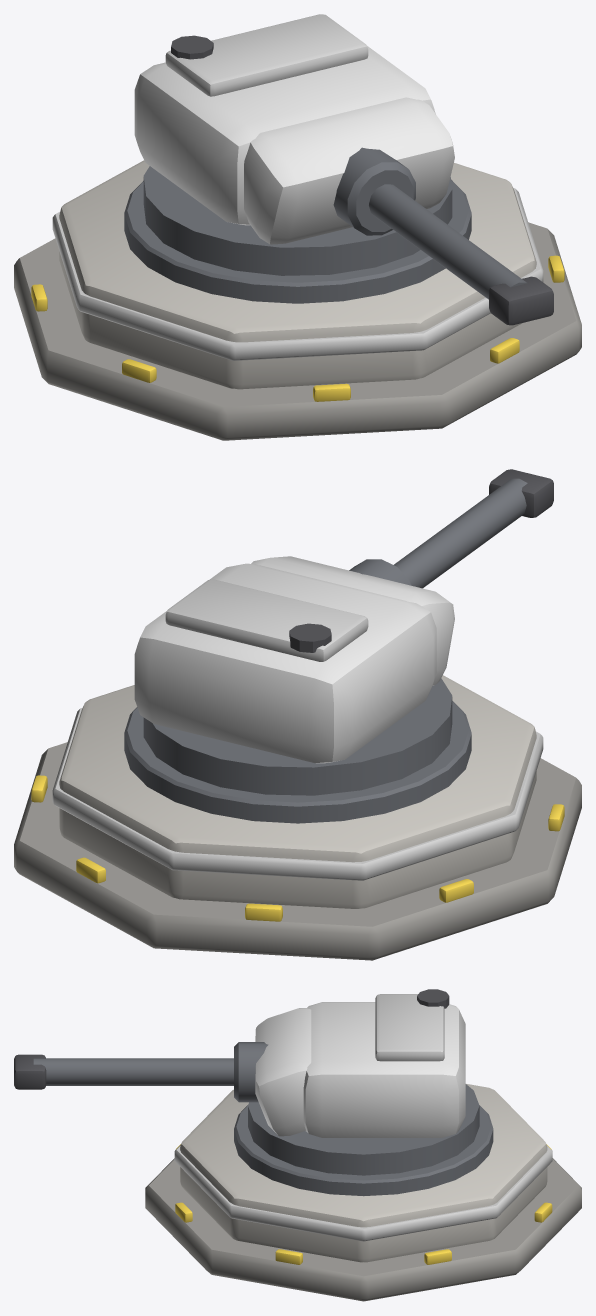
File: cannon_gun.glb
3 renders of one model, top to bottom at view 1: azimuth 30°, elevation 25°; view 2: azimuth 150°, elevation 25°; view 3: azimuth 270°, elevation 25°, orthographic. The views are drawn at different scales.
Visible parts, largest first — view 1: cannon_gun, turret; view 2: cannon_gun, turret; view 3: cannon_gun, turret.
Part boxes in pixels (<box>): cannon_gun: <box>14,160,581,440</box>; turret: <box>134,14,553,325</box>; cannon_gun: <box>14,675,581,960</box>; turret: <box>134,469,553,795</box>; cannon_gun: <box>145,1084,581,1301</box>; turret: <box>14,989,479,1175</box>.
Size of the model in its own units: 1.88 by 0.92 by 2.45.
